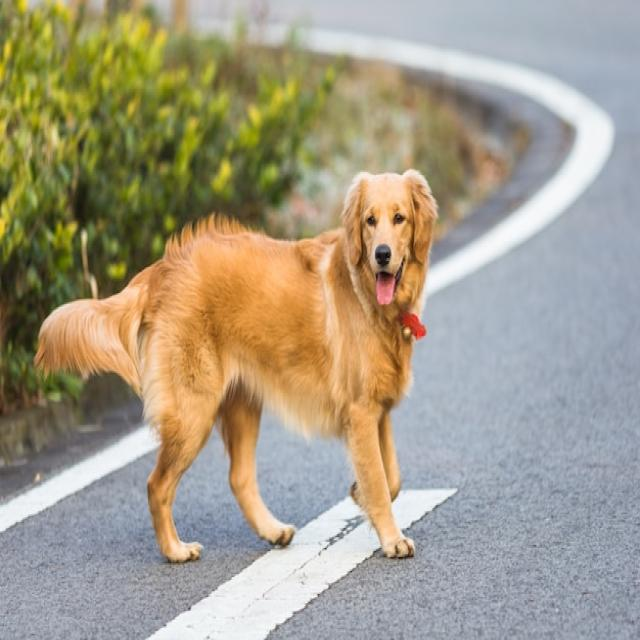Dog: (32, 169, 438, 562)
